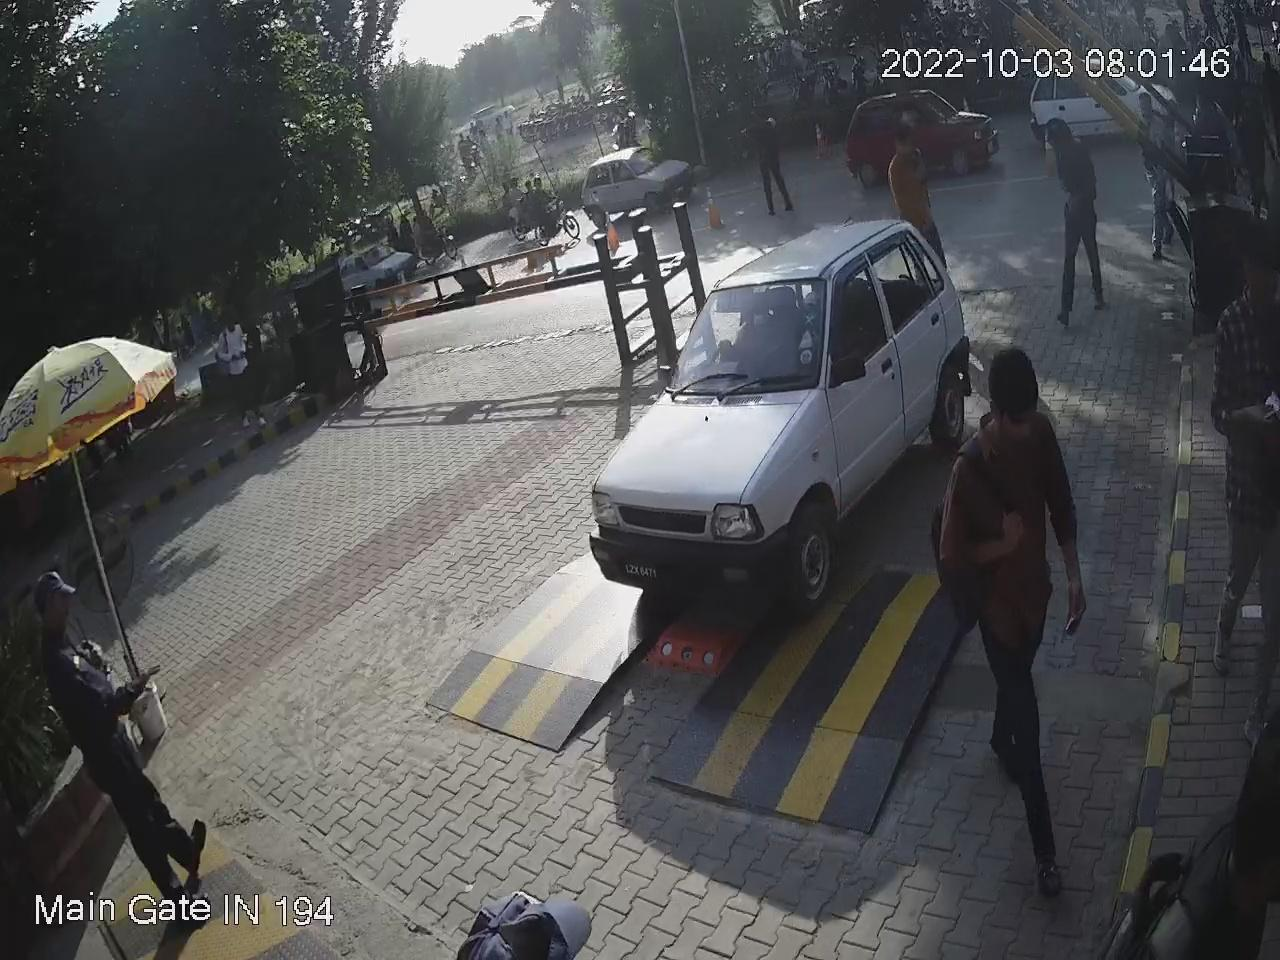windshield: (655, 262, 827, 397)
